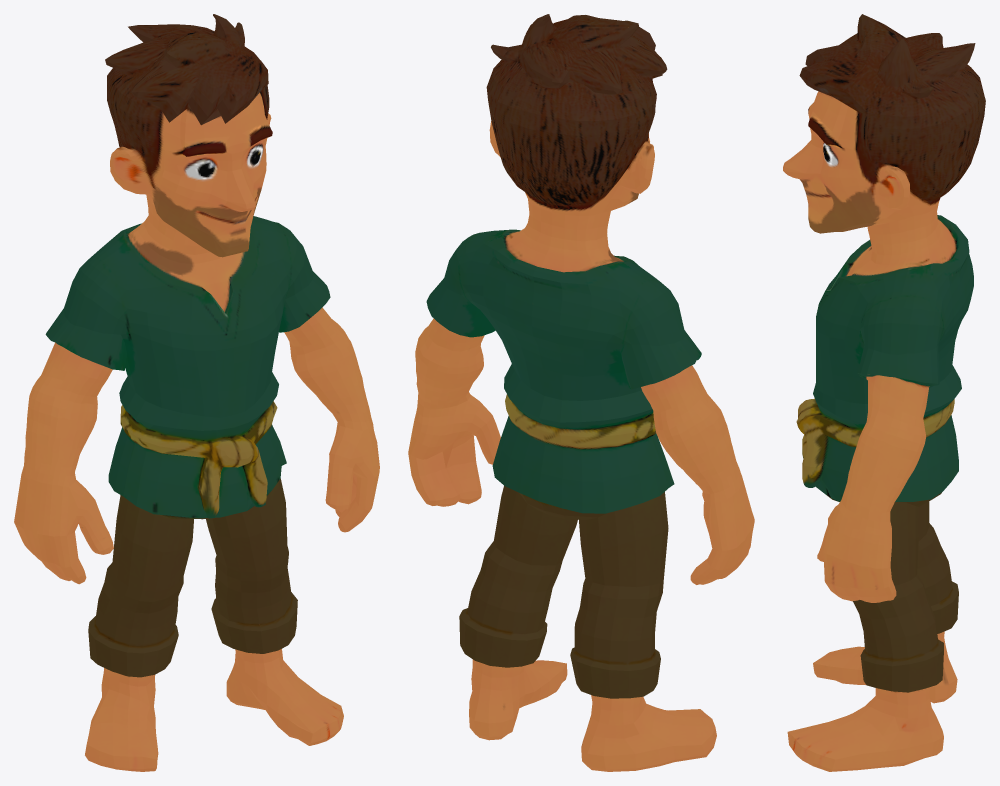
Rendered from castaway_v3_mixamo_upload.fbx.
3 renders of one model, left to right at view 1: azimuth 30°, elevation 25°; view 2: azimuth 150°, elevation 25°; view 3: azimuth 270°, elevation 25°, orthographic. The views are drawn at different scales.
Visible parts, largest first — view 1: v3_slp_poster; view 2: v3_slp_poster; view 3: v3_slp_poster.
Boxes of the visible parts, x1,y1,x2,y2 form: v3_slp_poster: (14, 14, 379, 771); v3_slp_poster: (408, 14, 754, 771); v3_slp_poster: (783, 14, 985, 771).
Bounding box in the file's own units: 95 × 190 × 50.47.
